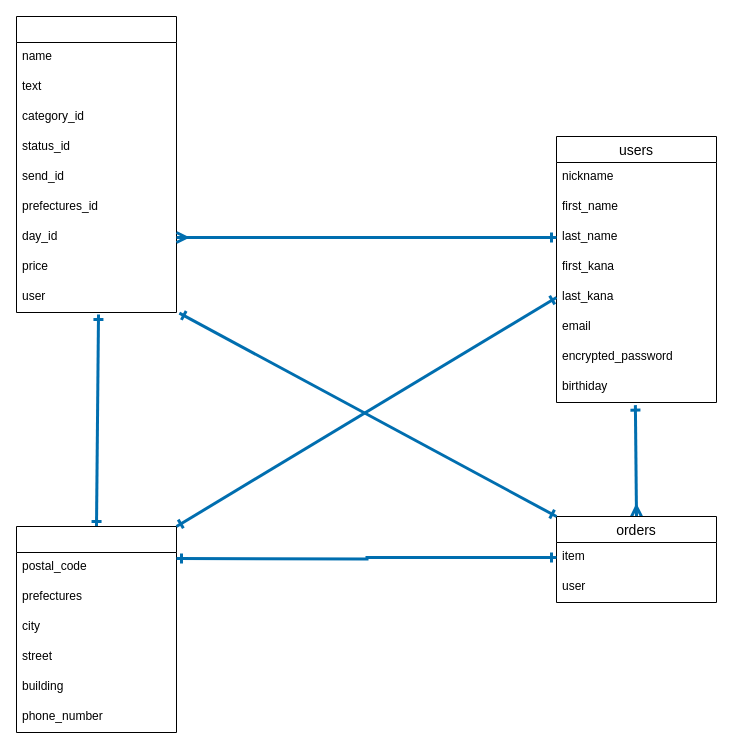
This 733x749 diagram has some shape labels left out. The box of each missing label's shape, as (x1, y1, x2, y2) in pixels:
addresses: (16, 526, 176, 732)
items: (16, 16, 176, 312)
